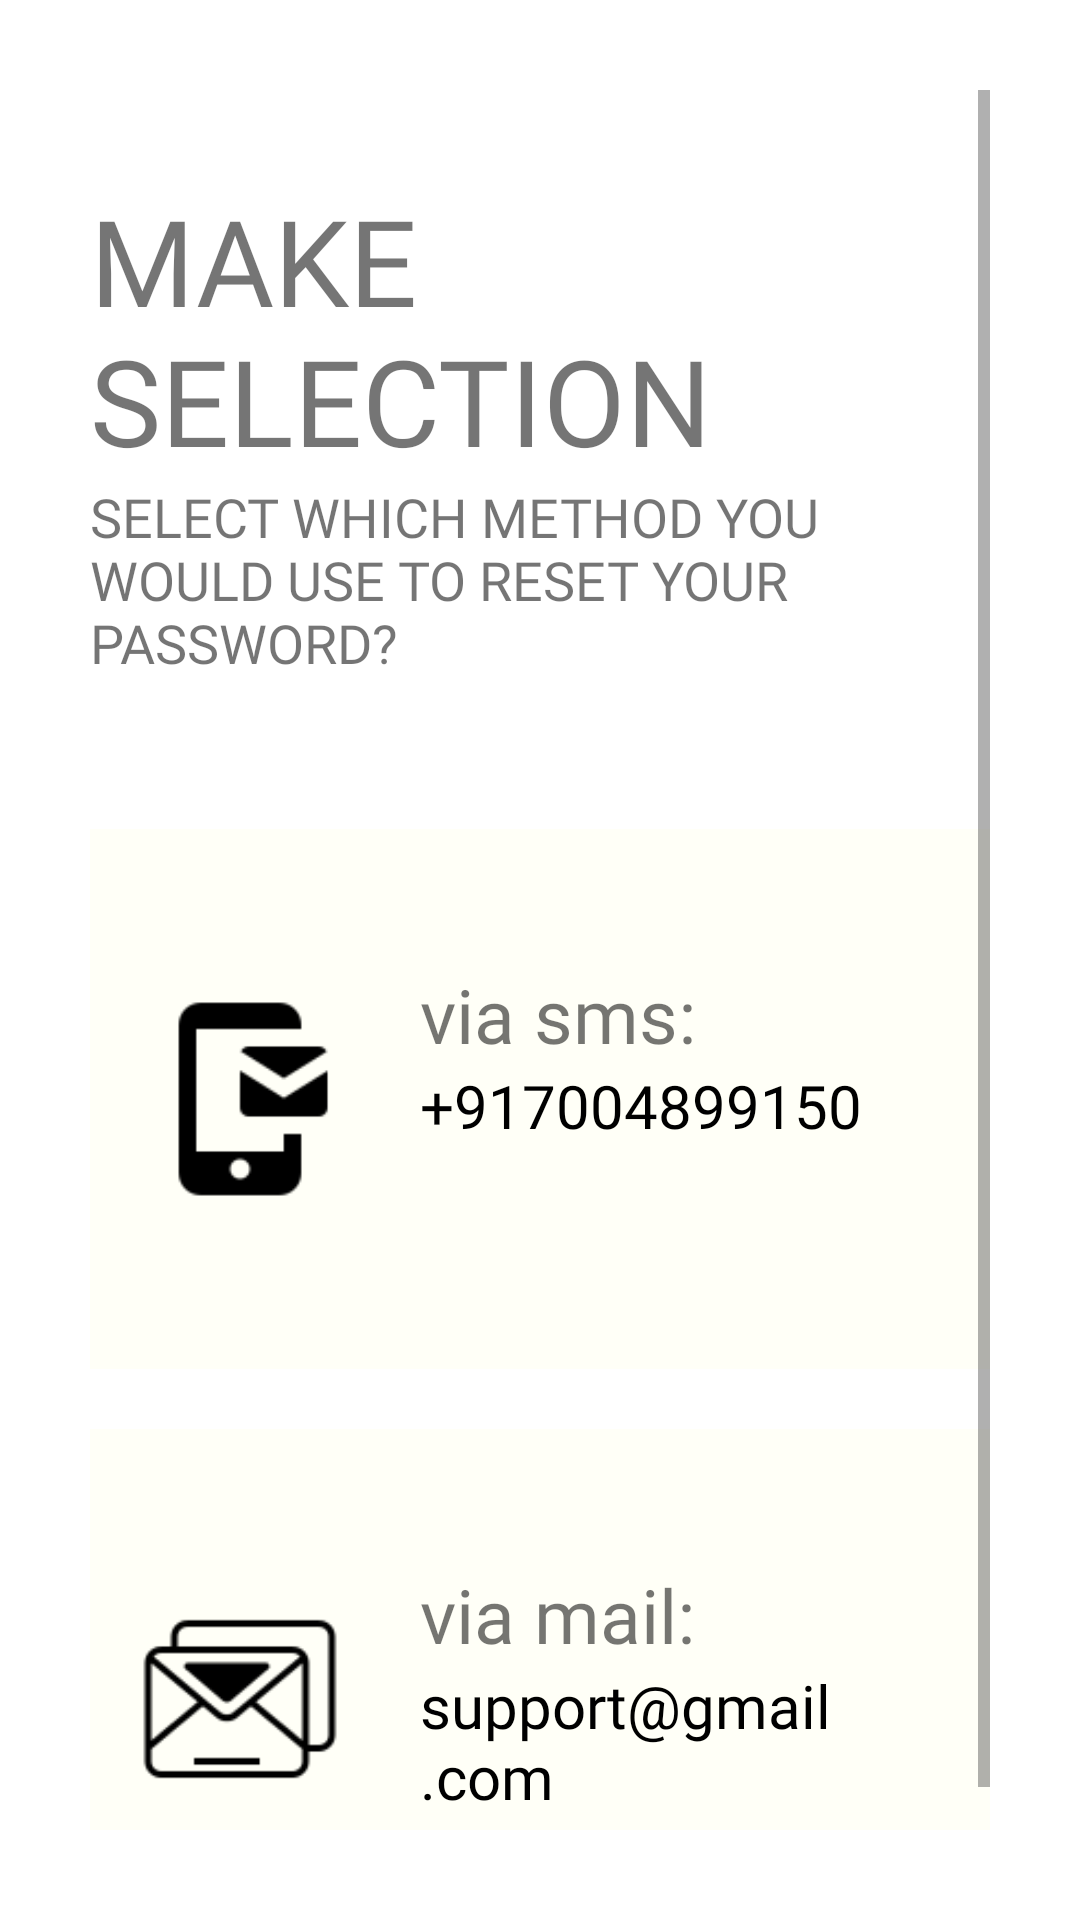

Named icons in this screenshot (1080px x 1920px) and their bounding boxes, [x1, y1, x2, y2]:
mobile message: [178, 1002, 328, 1196]
